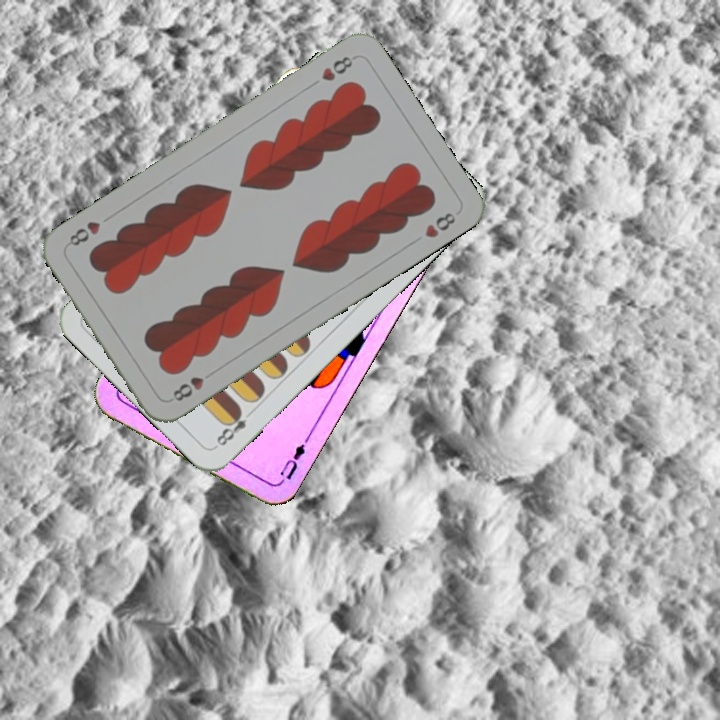E8: (211, 404, 258, 450)
EU: (274, 434, 311, 488)
H8: (169, 366, 218, 404), (317, 51, 359, 84)
